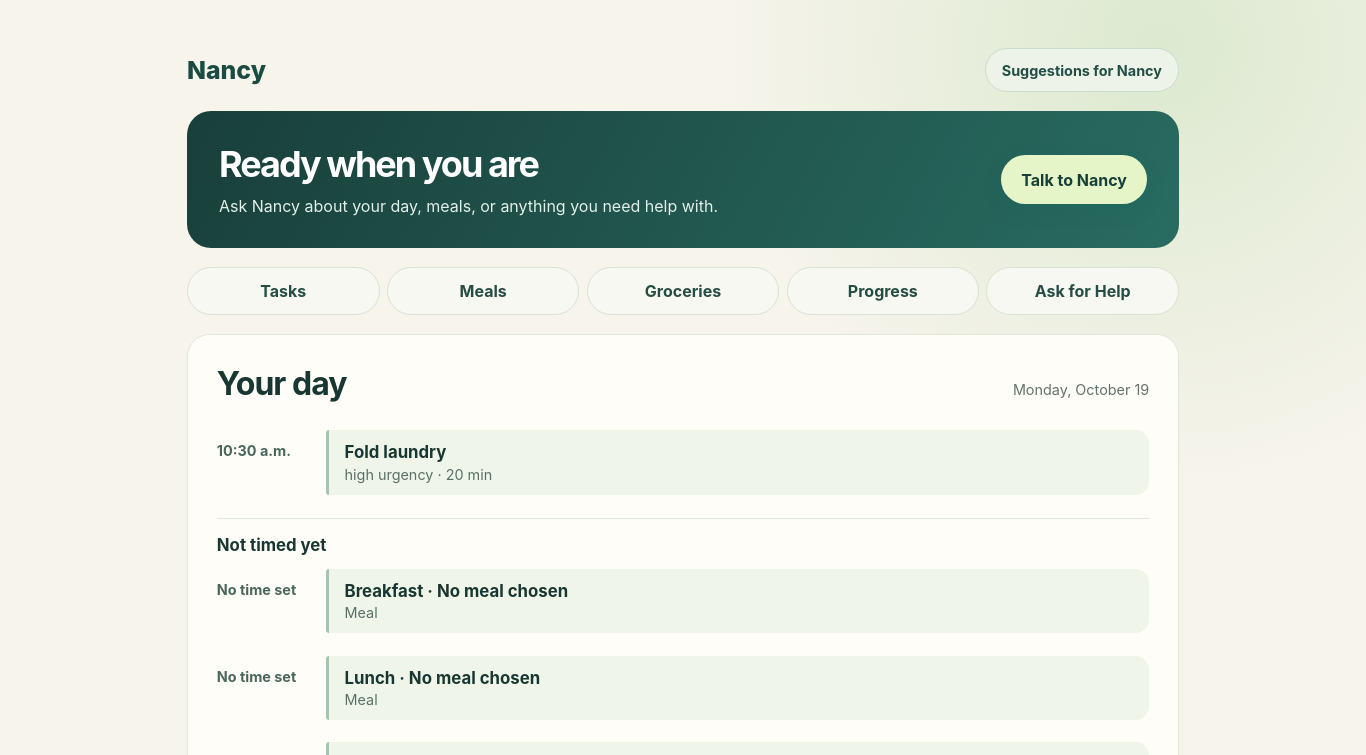
Test: October 19 client interface contract › keeps every client tab read-only, even when the underlying account can edit or export
Expected: the navigation bar is shown, [187,267,1179,315]
Click the button "Tasks". click: [283, 291]
box: [187,267,380,315]
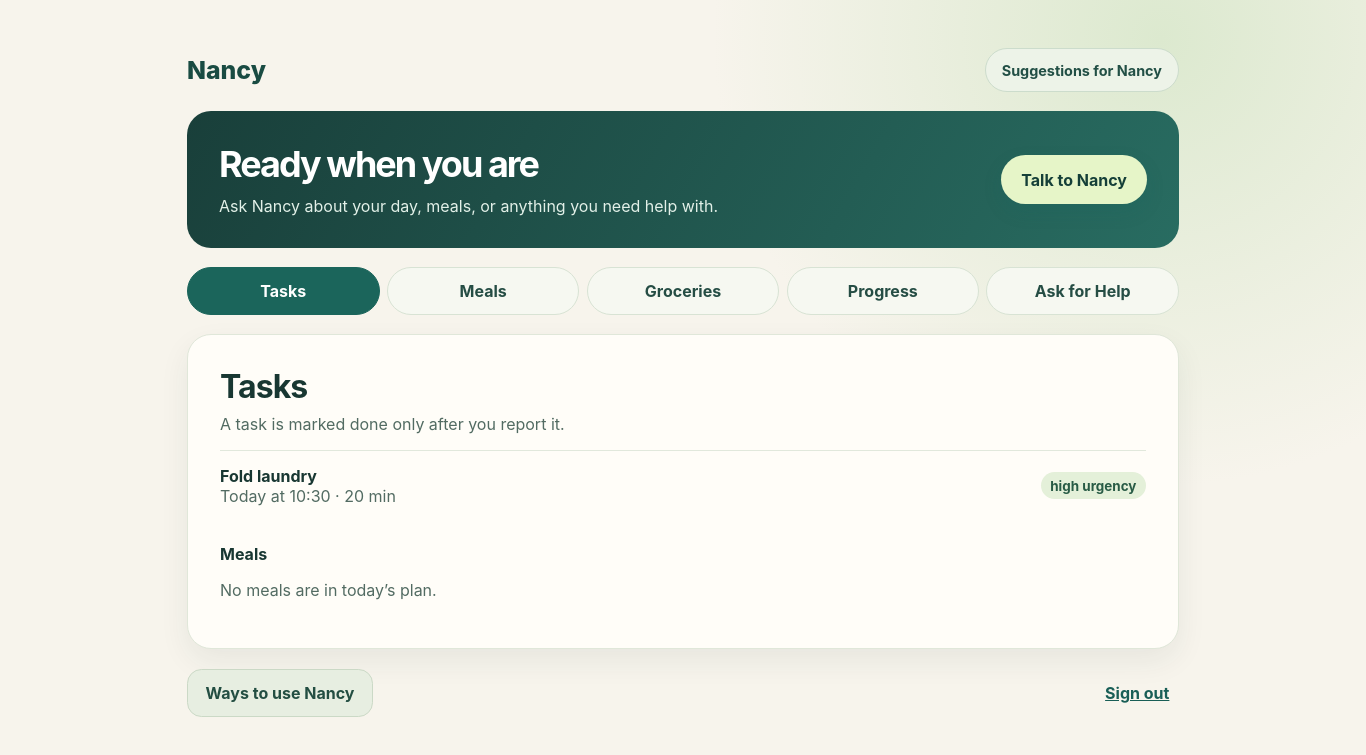
Expected: the heading "Tasks" is shown, [220,367,307,406]
Click the button "Meals". click: [483, 291]
box: [387,267,580,315]
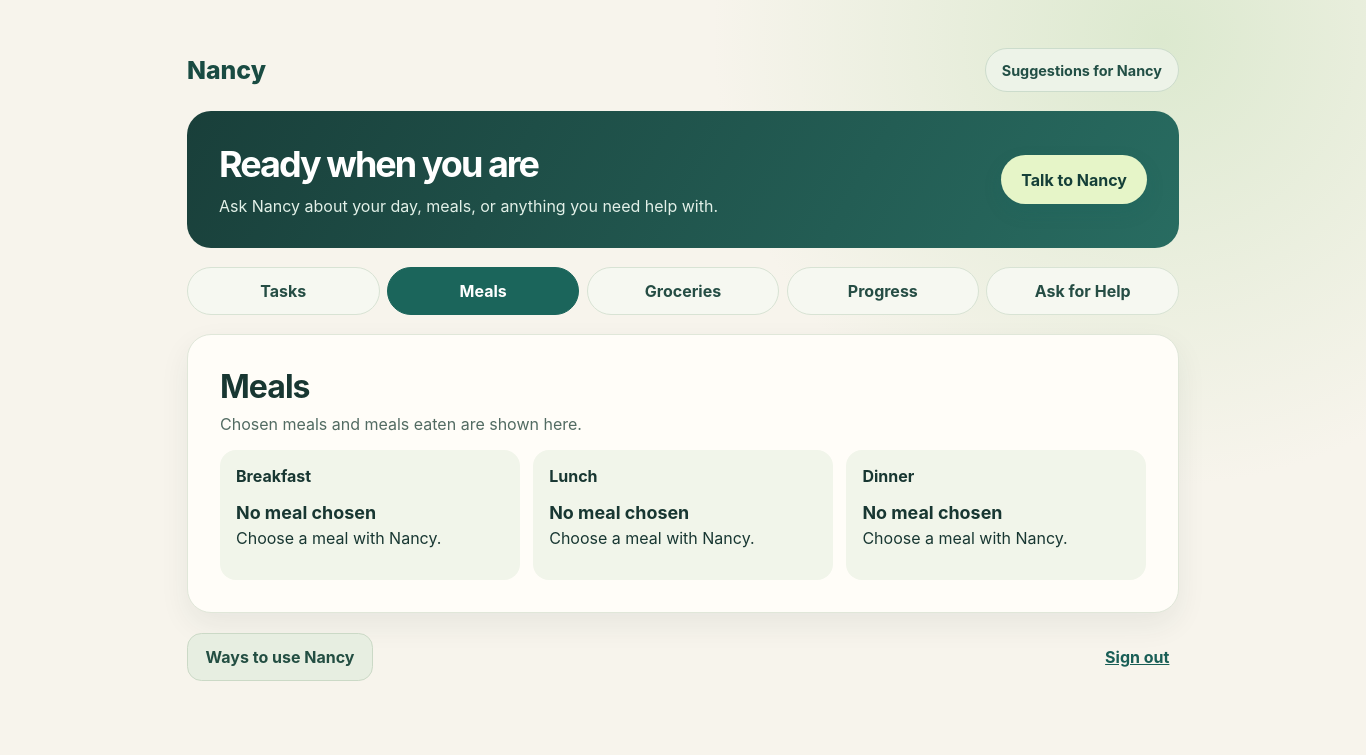
Expected: the heading "Meals" is shown, [220,367,310,406]
Click the button "Groceries". click: [683, 291]
box: [587,267,779,315]
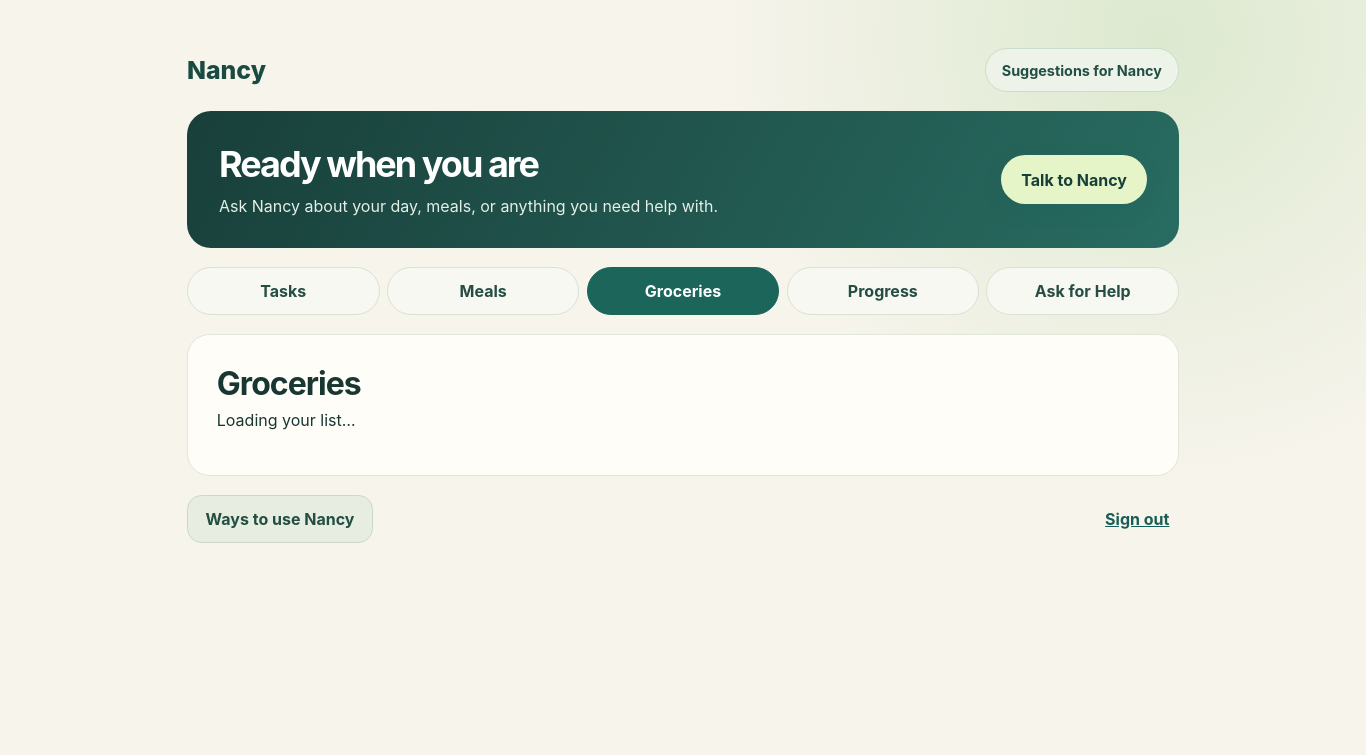
Expected: the heading "Groceries" is shown, [217,364,361,403]
Click the button "Progress". click: [883, 291]
box: [786,267,979,315]
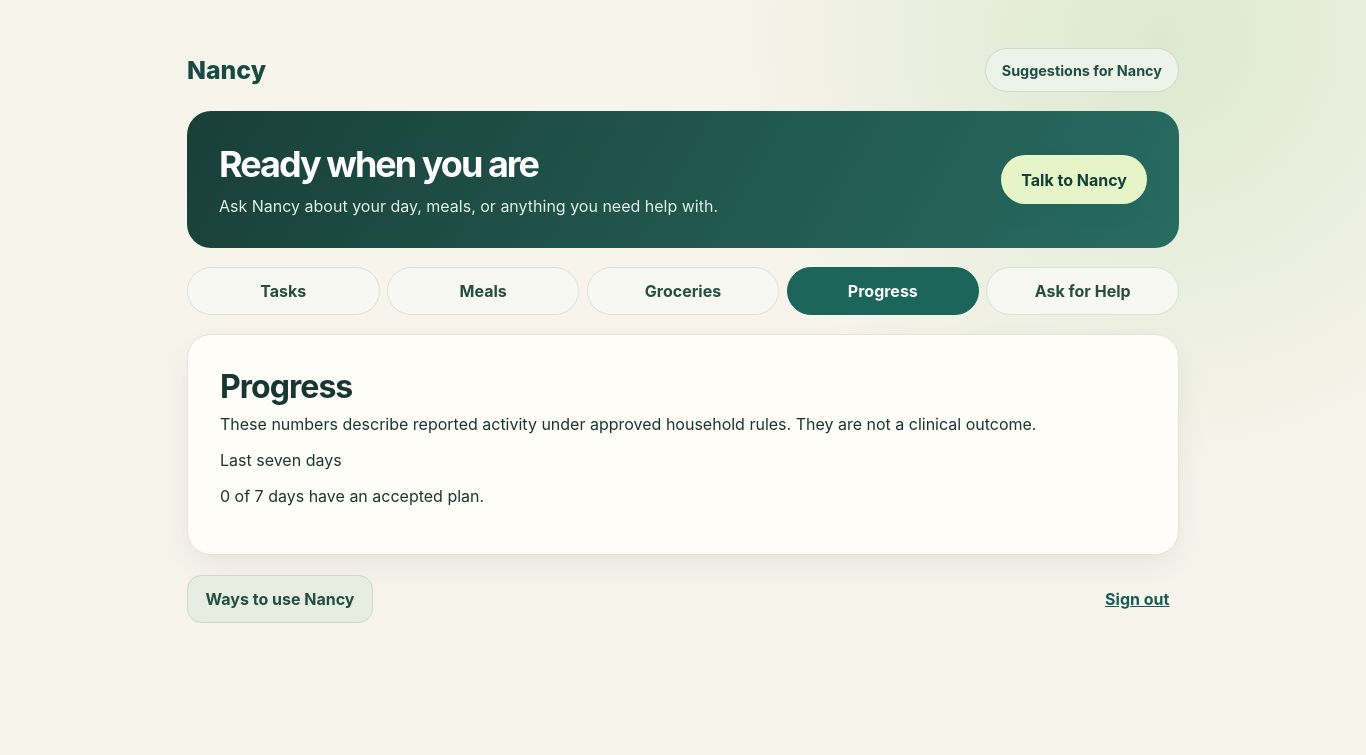
Expected: the heading "Progress" is shown, [220,367,352,406]
Click the button "Ask for Help". click: [1083, 291]
box: [986,267,1179,315]
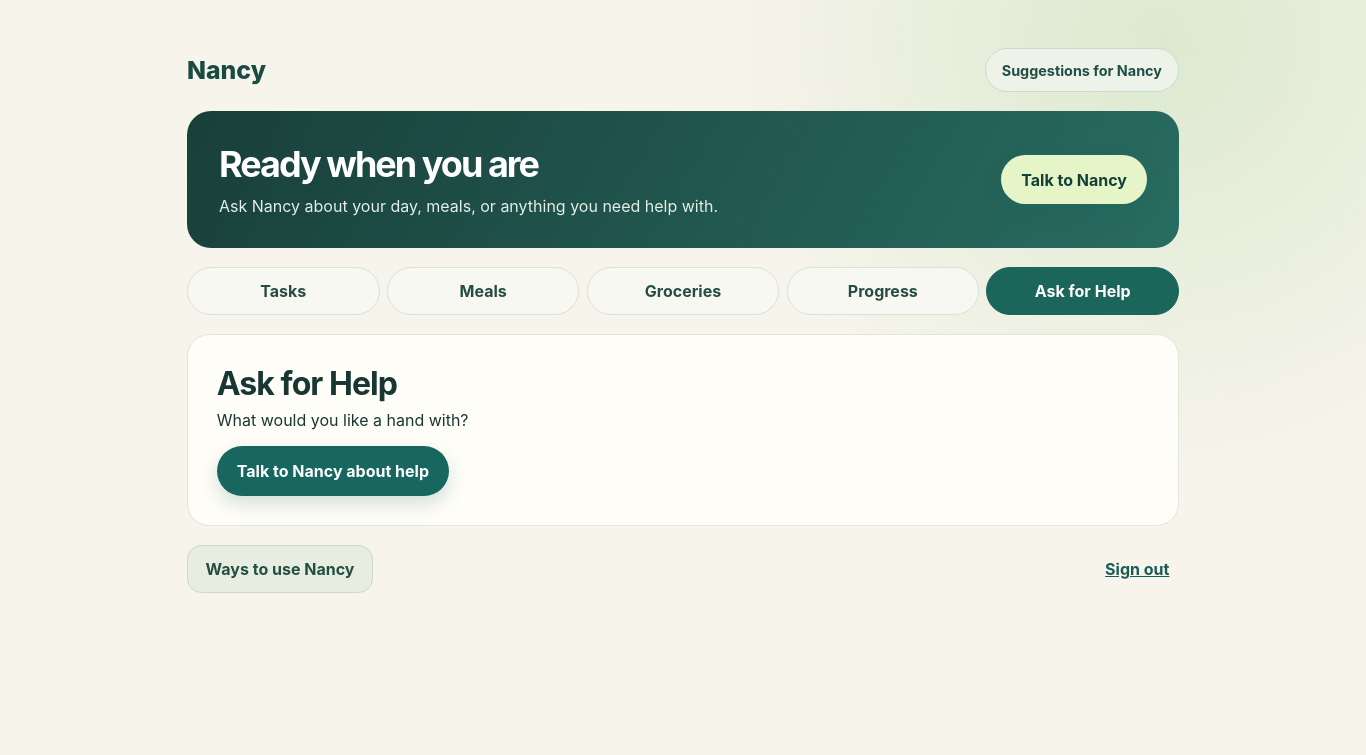
Expected: the heading "Ask for Help" is shown, [217,364,397,403]
